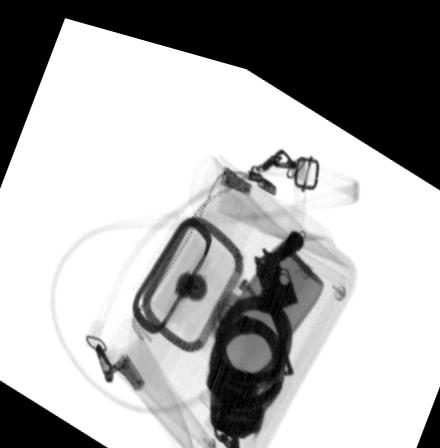Gun: (248, 212, 305, 361)
HandCuffs: (202, 277, 291, 448)
